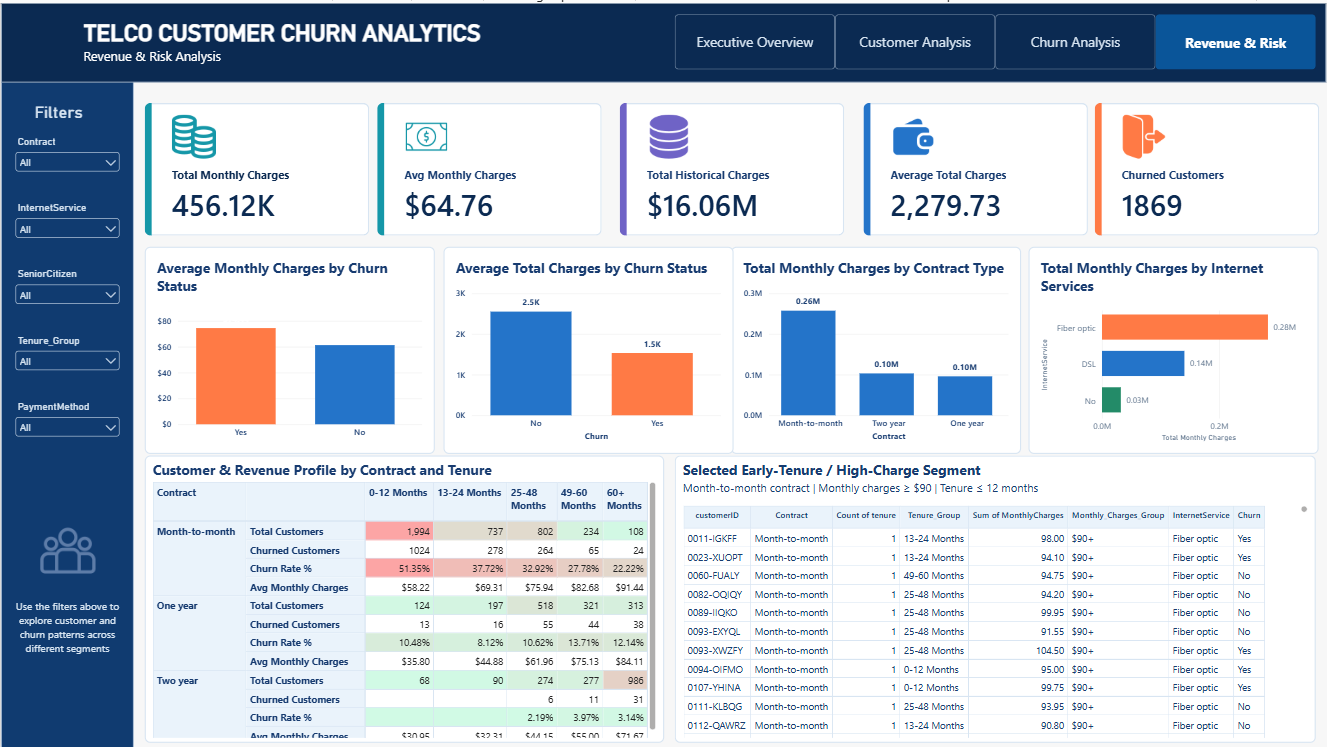

The page's visual inventory and layout, read from the dashboard file:
{"tool":"powerbi","page":{"name":"Revenue & Risk","canvas":[1920,1080],"ordinal":3},"visuals":[{"type":"shape","box":[0,112,192,968],"z":0},{"type":"shape","box":[0,0,1920,115],"z":1000},{"type":"cardVisual","fields":{"Data":["Measure.Total Monthly Charges"]},"box":[208,144,325,192],"z":2000},{"type":"textbox","title":"TELCO CUSTOMER CHURN ANALYTICS","box":[120,24,576,72],"z":3000},{"type":"pageNavigator","box":[976,16,928,80],"z":4000},{"type":"clusteredBarChart","title":"Total Monthly Charges by Internet Services","fields":{"Category":["Telco_Churn.InternetService"],"Y":["Measure.Total Monthly Charges"]},"box":[1488,352,420,300],"z":5000},{"type":"clusteredColumnChart","title":"Total Monthly Charges by Contract Type","fields":{"Category":["Telco_Churn.Contract"],"Y":["Measure.Total Monthly Charges"]},"box":[1056,352,420,300],"z":6000},{"type":"clusteredColumnChart","title":"Average Total Charges by Churn Status","fields":{"Category":["Telco_Churn.Churn"],"Y":["Measure.Average Total Charges"]},"box":[640,352,420,300],"z":7000},{"type":"clusteredColumnChart","title":"Average Monthly Charges by Churn Status","fields":{"Category":["Telco_Churn.Churn"],"Y":["Measure.Average Monthly Charges"]},"box":[208,352,420,300],"z":8000},{"type":"slicer","fields":{"Values":["Telco_Churn.Contract"]},"box":[16,192,160,64],"z":9000},{"type":"slicer","fields":{"Values":["Telco_Churn.PaymentMethod"]},"box":[16,576,160,80],"z":10000},{"type":"slicer","fields":{"Values":["Telco_Churn.InternetService"]},"box":[16,288,160,64],"z":11000},{"type":"slicer","fields":{"Values":["Telco_Churn.SeniorCitizen"]},"box":[16,384,160,64],"z":12000},{"type":"slicer","fields":{"Values":["Telco_Churn.Tenure_Group"]},"box":[16,480,160,64],"z":13000},{"type":"textbox","box":[16,864,160,96],"z":14000},{"type":"image","box":[48,752,96,80],"z":15000},{"type":"textbox","title":"Filters","box":[48,144,96,32],"z":16000},{"type":"cardVisual","fields":{"Data":["Measure.Avg Monthly Charges"]},"box":[544,144,325,192],"z":17000},{"type":"cardVisual","fields":{"Data":["Measure.Average Total Charges"]},"box":[1248,144,325,192],"z":18000},{"type":"cardVisual","fields":{"Data":["Measure.Total Historical Charges"]},"box":[896,144,325,192],"z":19000},{"type":"cardVisual","fields":{"Data":["Measure.Churned Customers"]},"box":[1584,144,325,192],"z":20000},{"type":"pivotTable","title":"Customer & Revenue Profile by Contract and Tenure","fields":{"Columns":["Telco_Churn.Tenure_Group"],"Rows":["Telco_Churn.Contract"],"Values":["Measure.Total Customers","Measure.Churned Customers","Measure.Churn Rate %","Measure.Average Monthly Charges"]},"box":[208,656,752,416],"z":21000},{"type":"tableEx","title":"Selected Early-Tenure / High-Charge Segment","fields":{"Values":["Telco_Churn.customerID","Telco_Churn.Contract","CountNonNull(Telco_Churn.tenure)","Telco_Churn.Tenure_Group","Sum(Telco_Churn.MonthlyCharges)","Telco_Churn.Monthly_Charges_Group","Telco_Churn.InternetService","Telco_Churn.Churn"]},"box":[976,656,928,416],"z":22000}]}

Visuals, with their boxes in screenshot pixels (x1, y1, x2, y2), scaled from the page's 1920x1080 canvas onto the 1327x747 screenshot:
shape: <bbox>0, 77, 133, 746</bbox>
shape: <bbox>0, 0, 1326, 80</bbox>
cardVisual - Measure.Total Monthly Charges: <bbox>144, 100, 368, 232</bbox>
"TELCO CUSTOMER CHURN ANALYTICS" textbox: <bbox>83, 17, 481, 66</bbox>
pageNavigator: <bbox>675, 11, 1316, 66</bbox>
"Total Monthly Charges by Internet Services" clusteredBarChart: <bbox>1028, 243, 1319, 451</bbox>
"Total Monthly Charges by Contract Type" clusteredColumnChart: <bbox>730, 243, 1020, 451</bbox>
"Average Total Charges by Churn Status" clusteredColumnChart: <bbox>442, 243, 733, 451</bbox>
"Average Monthly Charges by Churn Status" clusteredColumnChart: <bbox>144, 243, 434, 451</bbox>
slicer - Telco_Churn.Contract: <bbox>11, 133, 122, 177</bbox>
slicer - Telco_Churn.PaymentMethod: <bbox>11, 398, 122, 454</bbox>
slicer - Telco_Churn.InternetService: <bbox>11, 199, 122, 243</bbox>
slicer - Telco_Churn.SeniorCitizen: <bbox>11, 266, 122, 310</bbox>
slicer - Telco_Churn.Tenure_Group: <bbox>11, 332, 122, 376</bbox>
textbox: <bbox>11, 598, 122, 664</bbox>
image: <bbox>33, 520, 100, 575</bbox>
"Filters" textbox: <bbox>33, 100, 100, 122</bbox>
cardVisual - Measure.Avg Monthly Charges: <bbox>376, 100, 601, 232</bbox>
cardVisual - Measure.Average Total Charges: <bbox>863, 100, 1087, 232</bbox>
cardVisual - Measure.Total Historical Charges: <bbox>619, 100, 844, 232</bbox>
cardVisual - Measure.Churned Customers: <bbox>1095, 100, 1319, 232</bbox>
"Customer & Revenue Profile by Contract and Tenure" pivotTable: <bbox>144, 454, 664, 741</bbox>
"Selected Early-Tenure / High-Charge Segment" tableEx: <bbox>675, 454, 1316, 741</bbox>
